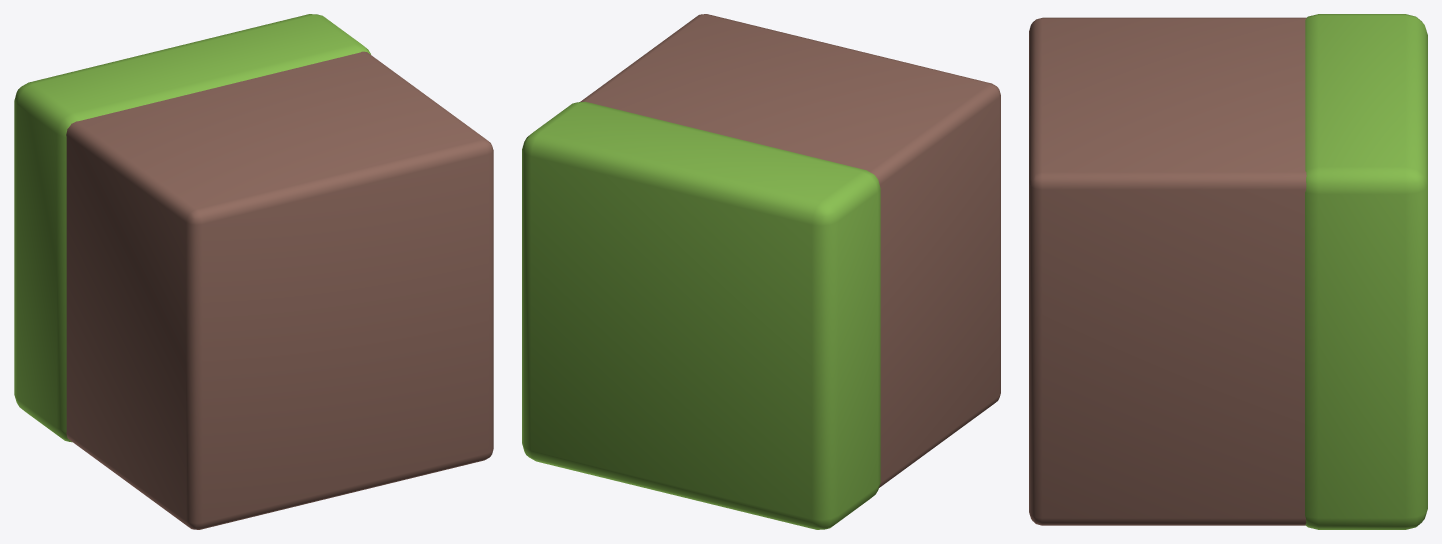
File: grassBlock.fbx
3 views of the same model, side by side, from view 1: azimuth 30°, elevation 25°; view 2: azimuth 150°, elevation 25°; view 3: azimuth 270°, elevation 25° (orthographic). The views are drawn at different scales.
Parts seen in each view (by area): view 1: grassBlock; view 2: grassBlock; view 3: grassBlock.
Boxes of the visible parts, bbox=[...] form: grassBlock: bbox=[14, 14, 493, 529]; grassBlock: bbox=[522, 14, 1000, 529]; grassBlock: bbox=[1029, 14, 1427, 529].
Size of the model in its own units: 1 by 1 by 1.
